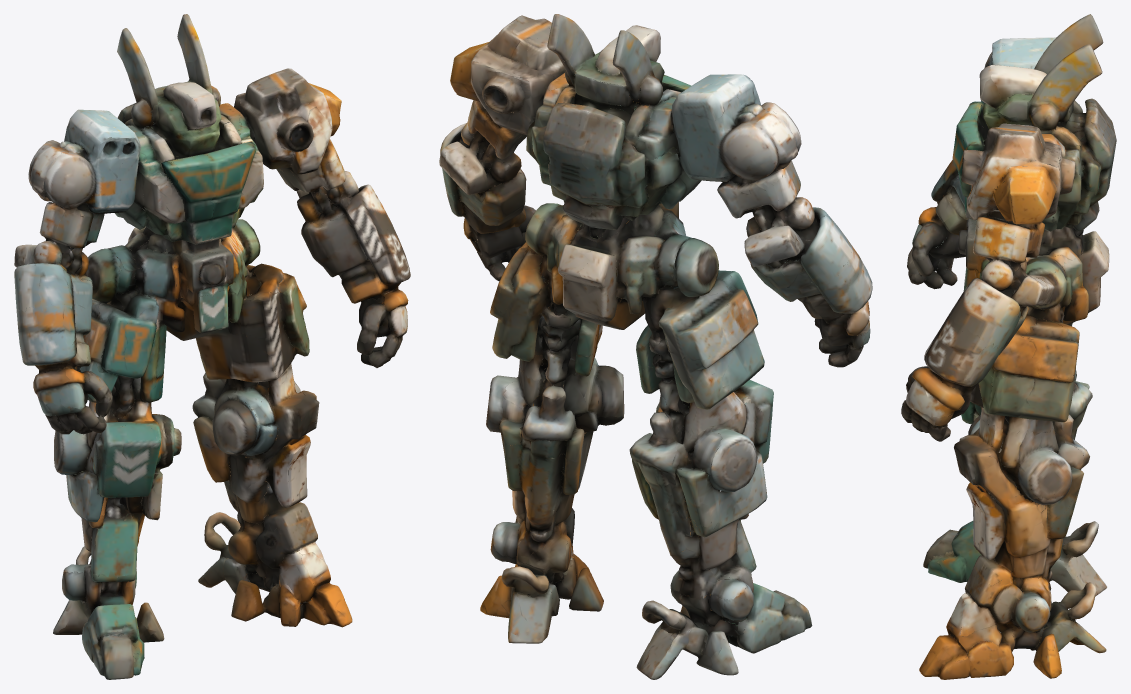
Rendered from Junkyard_Sentinel.glb.
The picture shows the model from 3 angles, left to right: view 1: azimuth 30°, elevation 25°; view 2: azimuth 150°, elevation 25°; view 3: azimuth 270°, elevation 25°; orthographic projection. The views are drawn at different scales.
Parts seen in each view (by area): view 1: tripo_part_3, tripo_part_19, tripo_part_50, tripo_part_31, tripo_part_46, tripo_part_4, tripo_part_43, tripo_part_10, tripo_part_16, tripo_part_28, tripo_part_1, tripo_part_17 (+53 smaller); view 2: tripo_part_3, tripo_part_1, tripo_part_2, tripo_part_0, tripo_part_44, tripo_part_42, tripo_part_48, tripo_part_31, tripo_part_14, tripo_part_40, tripo_part_71, tripo_part_35 (+54 smaller); view 3: tripo_part_42, tripo_part_28, tripo_part_4, tripo_part_8, tripo_part_10, tripo_part_2, tripo_part_38, tripo_part_70, tripo_part_6, tripo_part_18, tripo_part_51, tripo_part_12 (+41 smaller).
Boxes of the visible parts, box(x1,y1,x2,y2) form: tripo_part_3: box(28, 109, 140, 214); tripo_part_19: box(196, 263, 297, 382); tripo_part_50: box(161, 141, 256, 244); tripo_part_31: box(14, 263, 76, 365); tripo_part_46: box(84, 421, 161, 497); tripo_part_4: box(229, 390, 319, 523); tripo_part_43: box(100, 245, 158, 378); tripo_part_10: box(261, 68, 332, 174); tripo_part_16: box(301, 204, 383, 303); tripo_part_28: box(345, 184, 410, 294); tripo_part_1: box(80, 298, 166, 402); tripo_part_17: box(121, 233, 184, 332); tripo_part_3: box(670, 74, 801, 181); tripo_part_1: box(636, 278, 764, 409); tripo_part_2: box(531, 73, 648, 207); tripo_part_0: box(629, 412, 700, 567); tripo_part_44: box(681, 391, 757, 491); tripo_part_42: box(490, 242, 552, 361); tripo_part_48: box(516, 438, 566, 561); tripo_part_31: box(800, 207, 872, 313); tripo_part_14: box(471, 28, 565, 135); tripo_part_40: box(670, 467, 753, 626); tripo_part_71: box(558, 244, 619, 322); tripo_part_35: box(675, 450, 767, 537); tripo_part_42: box(988, 317, 1079, 422); tripo_part_28: box(924, 278, 1020, 389); tripo_part_4: box(954, 434, 1050, 580); tripo_part_8: box(998, 416, 1072, 505); tripo_part_10: box(961, 127, 1044, 228); tripo_part_2: box(983, 98, 1116, 214); tripo_part_38: box(1027, 44, 1102, 130); tripo_part_70: box(992, 162, 1056, 224); tripo_part_6: box(979, 246, 1088, 320); tripo_part_18: box(973, 216, 1044, 263); tripo_part_51: box(965, 555, 1023, 624); tripo_part_12: box(1030, 619, 1106, 678).
Bounding box in the file's own units: 0.687 × 1 × 0.3298.
1 material, 1 textured.
